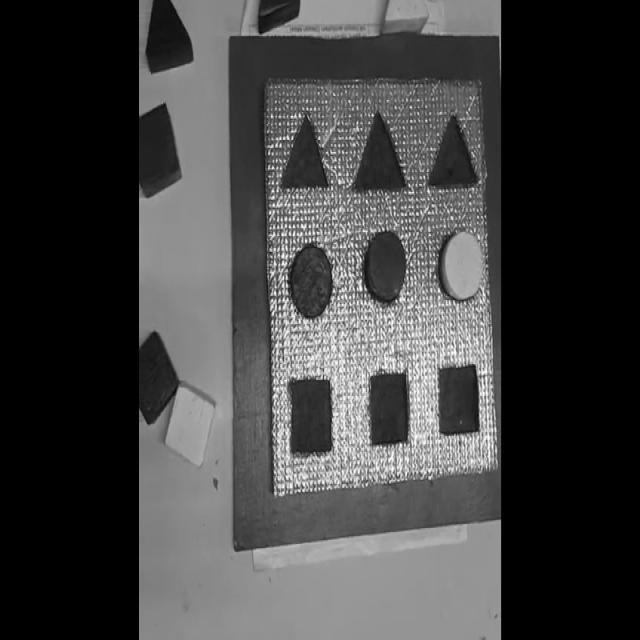bcircle: (290, 243, 333, 318)
bcube: (139, 331, 178, 426)
btriangle: (145, 0, 192, 74)
mtcube: (289, 376, 334, 457), (368, 370, 411, 448), (437, 363, 481, 438)
mttriangle: (350, 110, 407, 196), (281, 111, 331, 192), (428, 113, 479, 190)
rcircle: (365, 230, 407, 302)
rcube: (139, 101, 182, 201)
rtriangle: (258, 0, 301, 35)
wb: (263, 75, 496, 498)
ycircle: (439, 229, 484, 302)
ycube: (165, 382, 216, 467)
ytriangle: (383, 0, 429, 36)
